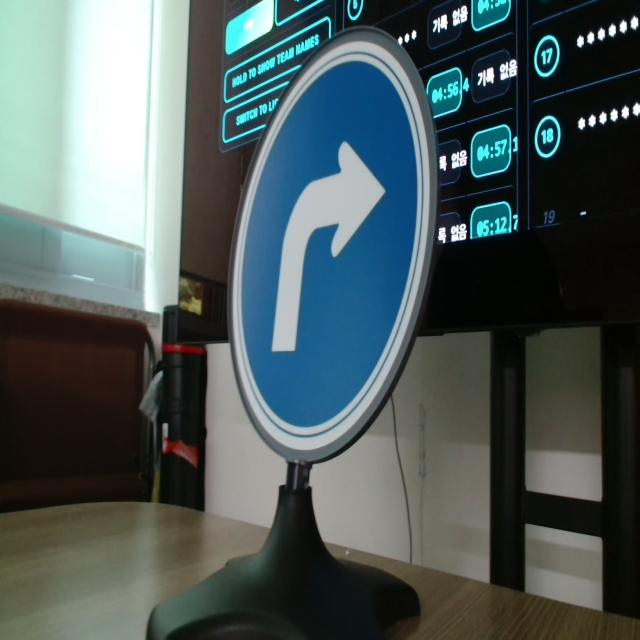right_dierection: (234, 29, 436, 466)
